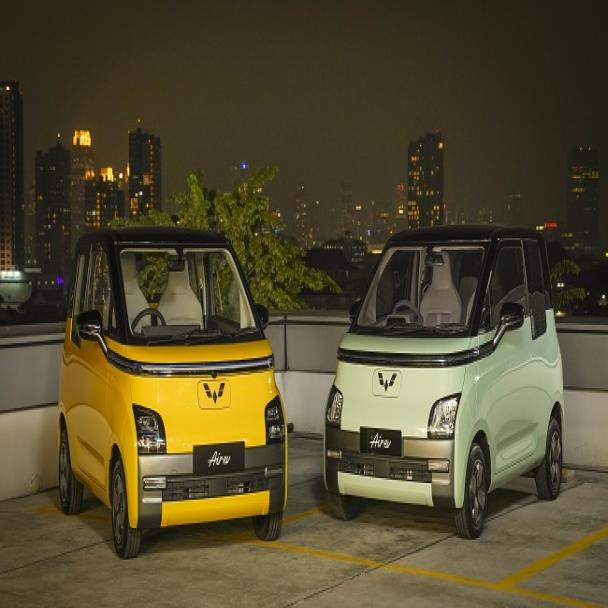Mobil: (323, 226, 562, 528), (62, 229, 288, 544)
